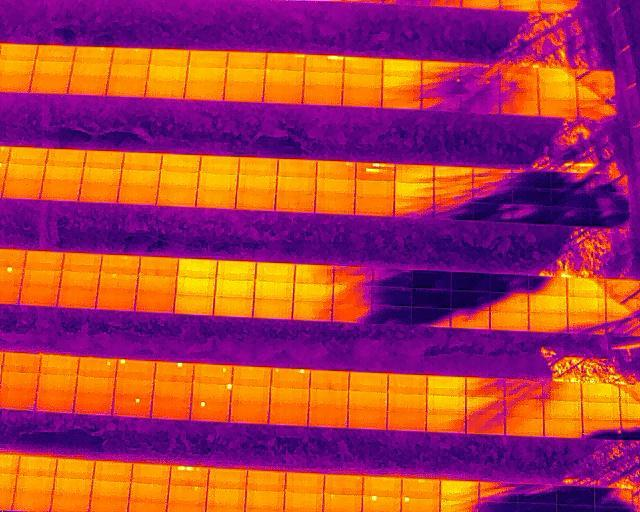Cell: (114, 394, 154, 417), (191, 401, 230, 423), (168, 486, 208, 506), (191, 382, 232, 401), (116, 359, 156, 378), (193, 365, 233, 383), (155, 363, 194, 381), (361, 495, 401, 512), (402, 480, 441, 497), (79, 358, 117, 374), (401, 497, 440, 512)
Cell-Multi: (168, 466, 207, 486), (272, 368, 311, 388), (355, 162, 396, 179)
No-Anomaly: (152, 394, 191, 422), (315, 191, 356, 215), (229, 400, 269, 424), (348, 406, 387, 429), (37, 390, 76, 413), (308, 405, 348, 427), (387, 407, 427, 429), (270, 404, 309, 426), (489, 310, 528, 332), (2, 178, 41, 200), (55, 457, 95, 478), (214, 297, 254, 318), (253, 299, 293, 320), (426, 375, 466, 396), (76, 393, 114, 415), (60, 270, 101, 290), (322, 474, 363, 494), (224, 81, 265, 101), (276, 192, 315, 213), (528, 312, 567, 333), (294, 283, 333, 304), (236, 191, 275, 212), (208, 468, 247, 489), (42, 353, 79, 375), (176, 259, 216, 279), (17, 456, 57, 476), (57, 289, 97, 309), (439, 480, 479, 500), (131, 463, 171, 483), (140, 257, 178, 278), (14, 475, 53, 495), (247, 471, 286, 491), (130, 483, 169, 503), (97, 291, 136, 311), (41, 180, 80, 200), (303, 88, 342, 108), (246, 490, 285, 510), (22, 270, 63, 289), (566, 294, 607, 313), (184, 82, 225, 101), (0, 389, 37, 410), (216, 260, 256, 279), (323, 493, 363, 512), (284, 493, 324, 512), (292, 303, 332, 322), (197, 190, 237, 209), (382, 91, 422, 110), (105, 78, 145, 97), (426, 394, 466, 413), (39, 373, 77, 393), (100, 255, 139, 274), (285, 474, 324, 493), (355, 196, 394, 215), (505, 417, 544, 436), (207, 488, 246, 507), (76, 374, 115, 393), (253, 281, 294, 299), (156, 187, 197, 205), (308, 388, 349, 406), (176, 296, 214, 315), (240, 156, 278, 175), (94, 461, 132, 480), (362, 478, 402, 496), (53, 478, 93, 496), (23, 252, 63, 270), (343, 56, 383, 74), (176, 278, 216, 296), (528, 295, 568, 313), (118, 185, 158, 203), (198, 172, 238, 190), (342, 90, 382, 108), (264, 86, 304, 104), (146, 81, 186, 99), (303, 71, 343, 89), (232, 366, 272, 384), (309, 370, 349, 388), (349, 371, 389, 389), (348, 388, 388, 406), (4, 353, 41, 372), (294, 265, 333, 283), (544, 418, 583, 436), (20, 289, 59, 307), (538, 99, 577, 117), (317, 160, 356, 178), (200, 155, 239, 173), (31, 76, 70, 94), (582, 402, 621, 420), (232, 384, 271, 402), (581, 384, 620, 402), (135, 295, 176, 312), (100, 273, 138, 291), (427, 414, 465, 432), (93, 481, 131, 499), (544, 400, 582, 418), (255, 264, 295, 281), (226, 52, 266, 69), (149, 49, 189, 66), (13, 495, 53, 512), (5, 162, 45, 179), (278, 160, 318, 177), (46, 149, 86, 166), (537, 83, 577, 100), (115, 378, 155, 395), (70, 63, 112, 79), (138, 277, 177, 294), (215, 280, 254, 297), (395, 181, 434, 198), (80, 183, 119, 200), (123, 153, 162, 170), (61, 254, 102, 270), (147, 66, 188, 82), (187, 51, 228, 67), (237, 175, 278, 191), (1, 372, 39, 389), (33, 61, 73, 77), (277, 176, 317, 192), (355, 180, 395, 196), (83, 168, 123, 184), (67, 80, 107, 96), (342, 74, 382, 90), (153, 379, 193, 395), (119, 170, 161, 185), (388, 391, 425, 408), (383, 60, 422, 76), (112, 49, 151, 65), (317, 177, 356, 193), (388, 374, 427, 390), (34, 47, 75, 62), (75, 48, 113, 64), (52, 496, 90, 512), (162, 156, 200, 172), (9, 147, 47, 163), (537, 68, 577, 83), (499, 101, 539, 116), (434, 165, 474, 180), (84, 152, 124, 167), (270, 388, 310, 403), (398, 165, 435, 181), (224, 68, 266, 82), (110, 65, 149, 80), (265, 69, 304, 84), (383, 75, 422, 90), (186, 67, 227, 81), (159, 172, 199, 186), (45, 167, 84, 180), (90, 500, 128, 512)
Shadowing: (568, 313, 607, 336), (515, 484, 557, 505), (371, 286, 412, 307), (435, 199, 474, 221), (556, 486, 595, 508), (411, 307, 451, 328), (450, 289, 490, 310), (472, 184, 512, 205), (527, 275, 567, 295), (451, 309, 491, 329), (489, 292, 529, 312), (512, 185, 554, 204), (552, 172, 594, 191), (466, 377, 505, 397), (465, 415, 505, 434), (566, 278, 606, 297), (478, 482, 516, 502), (577, 100, 617, 119), (512, 204, 554, 222), (458, 80, 500, 98), (332, 266, 371, 285), (554, 208, 593, 227), (412, 288, 451, 307), (466, 396, 505, 415), (596, 488, 633, 508), (460, 62, 501, 80), (412, 269, 450, 288), (333, 304, 371, 323), (505, 379, 543, 398), (395, 198, 435, 216), (489, 275, 529, 293), (371, 307, 411, 325), (450, 273, 490, 291), (333, 285, 370, 304), (433, 181, 472, 199), (505, 399, 544, 417), (543, 382, 582, 400), (371, 268, 412, 285), (512, 169, 553, 186), (553, 191, 594, 208), (577, 83, 618, 100), (474, 204, 512, 222), (583, 421, 621, 439), (498, 66, 538, 83), (422, 93, 459, 111), (422, 75, 459, 93), (595, 172, 628, 192), (459, 98, 500, 114), (593, 212, 629, 230), (592, 193, 628, 211), (473, 167, 512, 183), (499, 84, 538, 100), (576, 69, 618, 83), (422, 60, 459, 75)
Unclassified: (266, 53, 305, 68), (305, 56, 345, 70)
